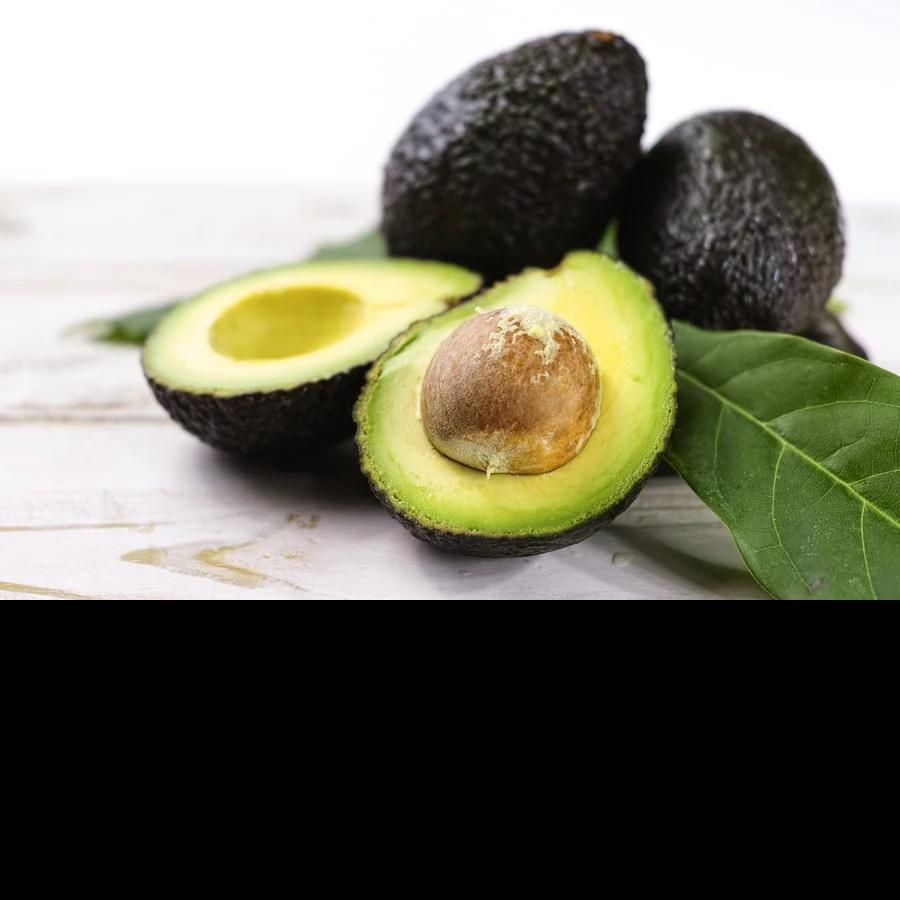ripe: (382, 31, 648, 285), (620, 111, 845, 335)
